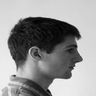ear: (25, 42, 47, 67)
